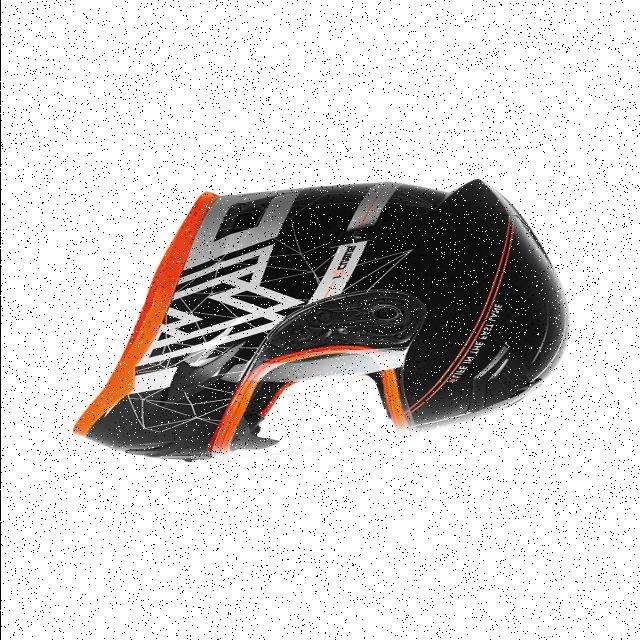Helmet: (74, 180, 567, 460)
